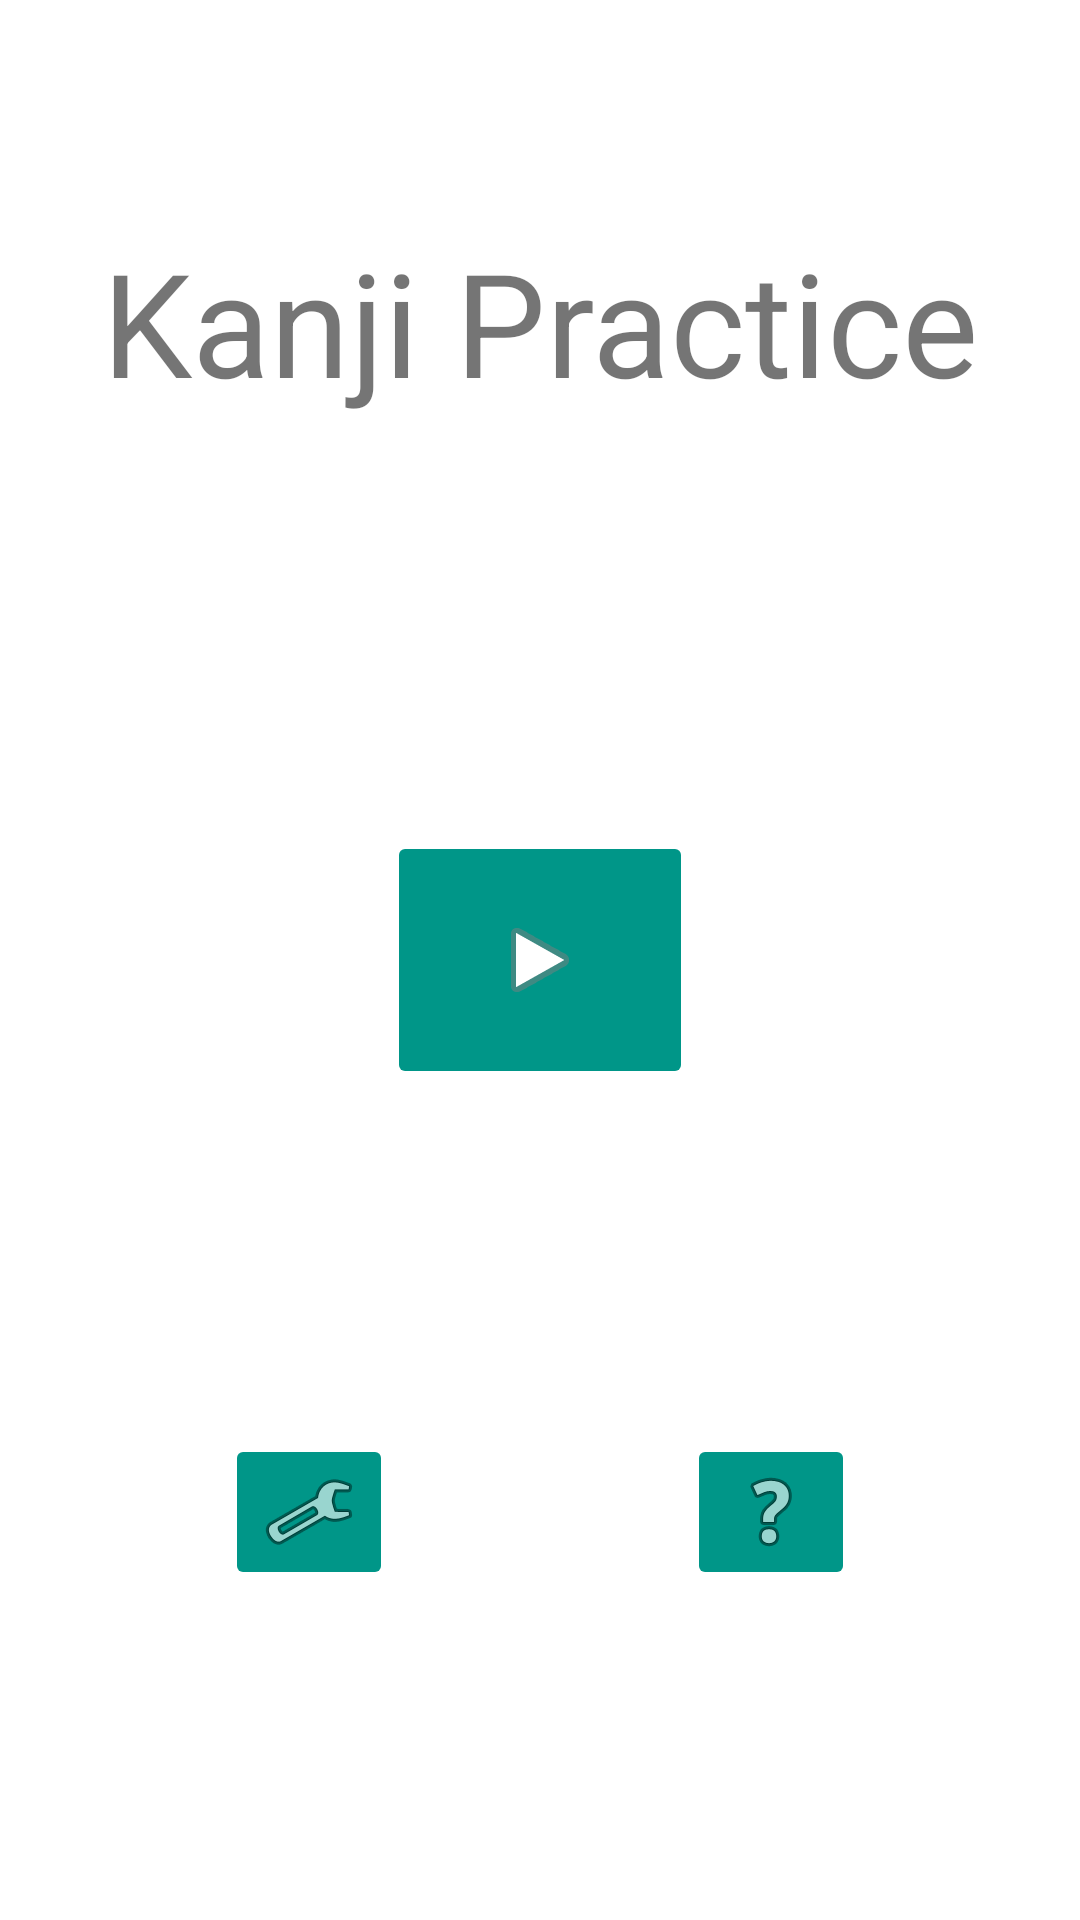

Icons on this 1080px x 1920px Android screen, each with its box as (x1, y1, x2, y2):
help: (699, 1452, 843, 1572)
manage: (237, 1452, 381, 1572)
play: (399, 849, 681, 1071)
